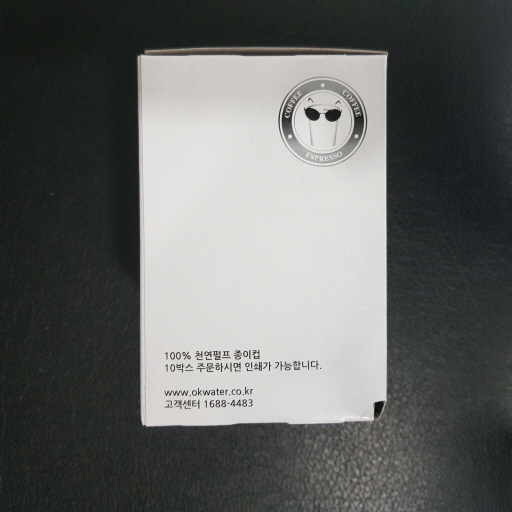Paper_0: (121, 41, 410, 438)
